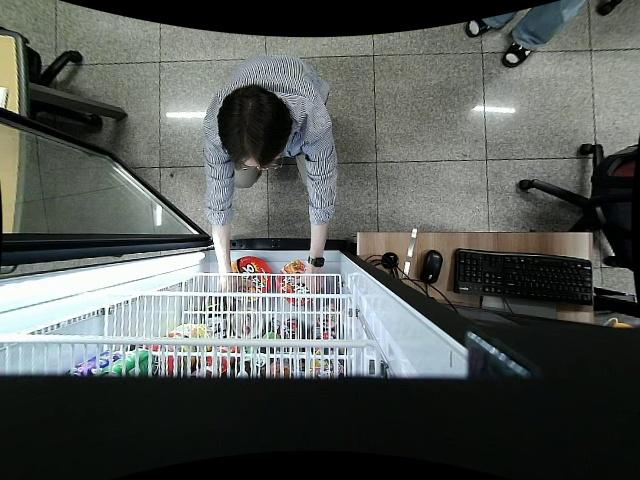00_hand: (217, 268, 256, 293), (292, 274, 323, 300)
10_wangTtukkeong: (231, 258, 272, 303), (279, 262, 318, 306)
